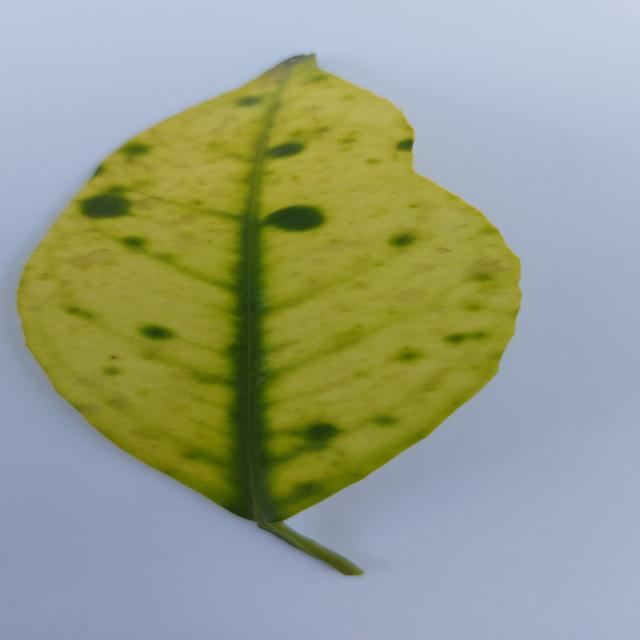greening: (21, 55, 519, 571)
